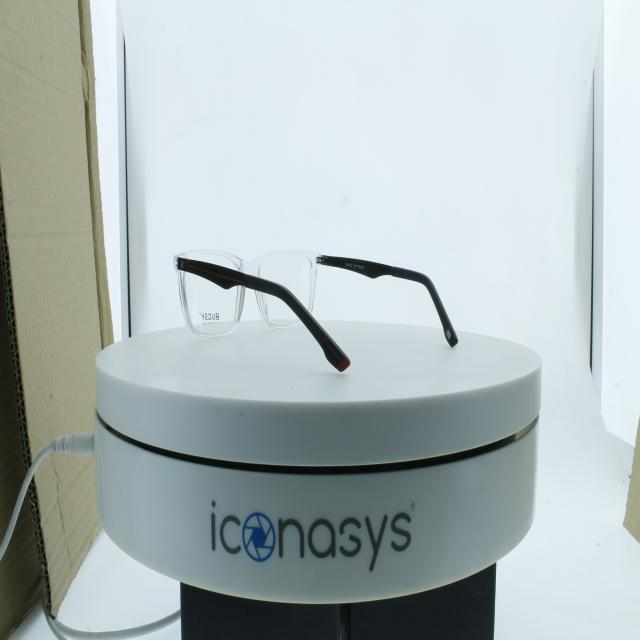Specs: (164, 222, 468, 382)
